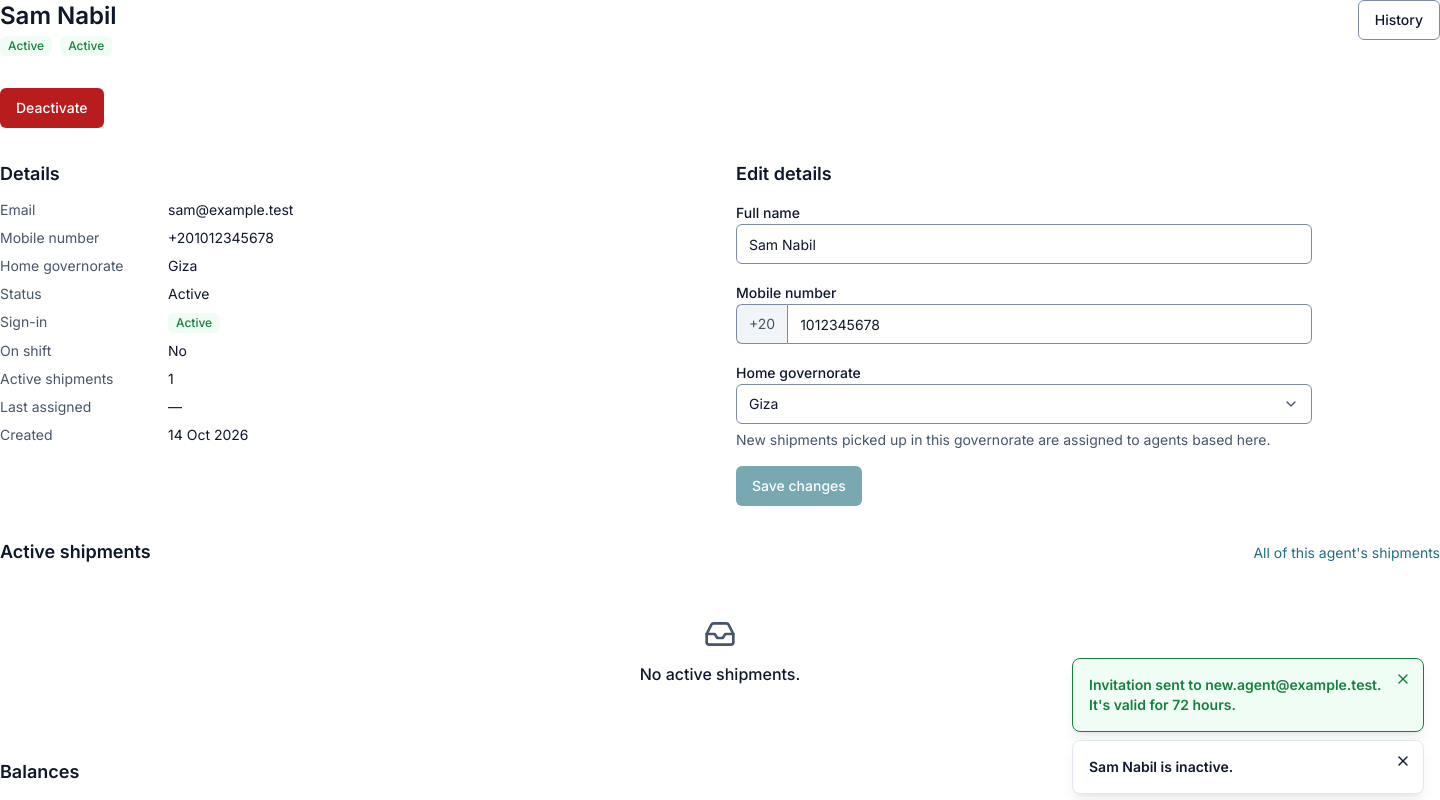
Test: agent (spec 03 AD-11) › AGENT_INVALID_STATUS_TRANSITION refetches and explains
Click the button "Deactivate". click: {"x": 52, "y": 108}
box: [0, 88, 104, 128]
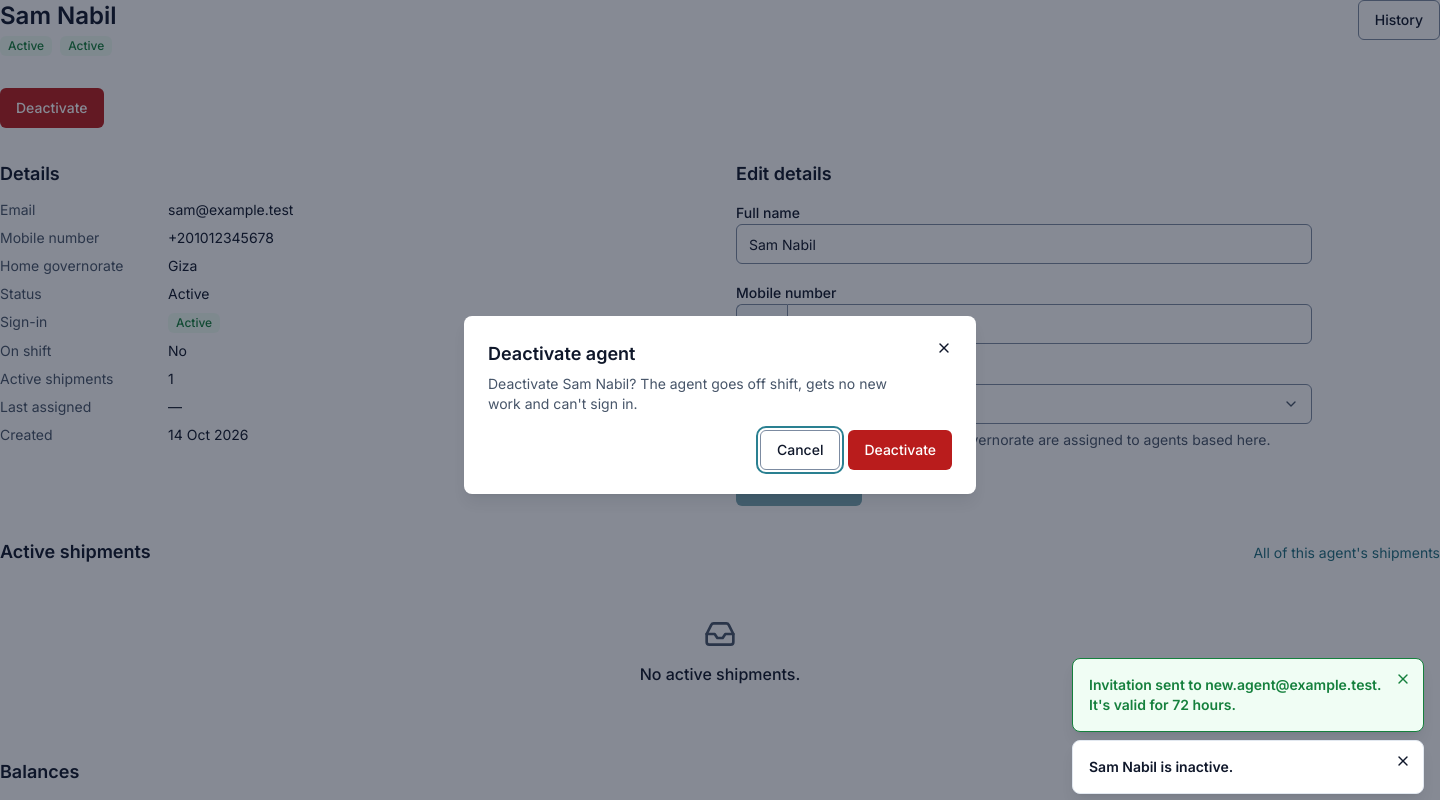
Click the button "Deactivate". click: {"x": 900, "y": 450}
box: [848, 430, 952, 470]
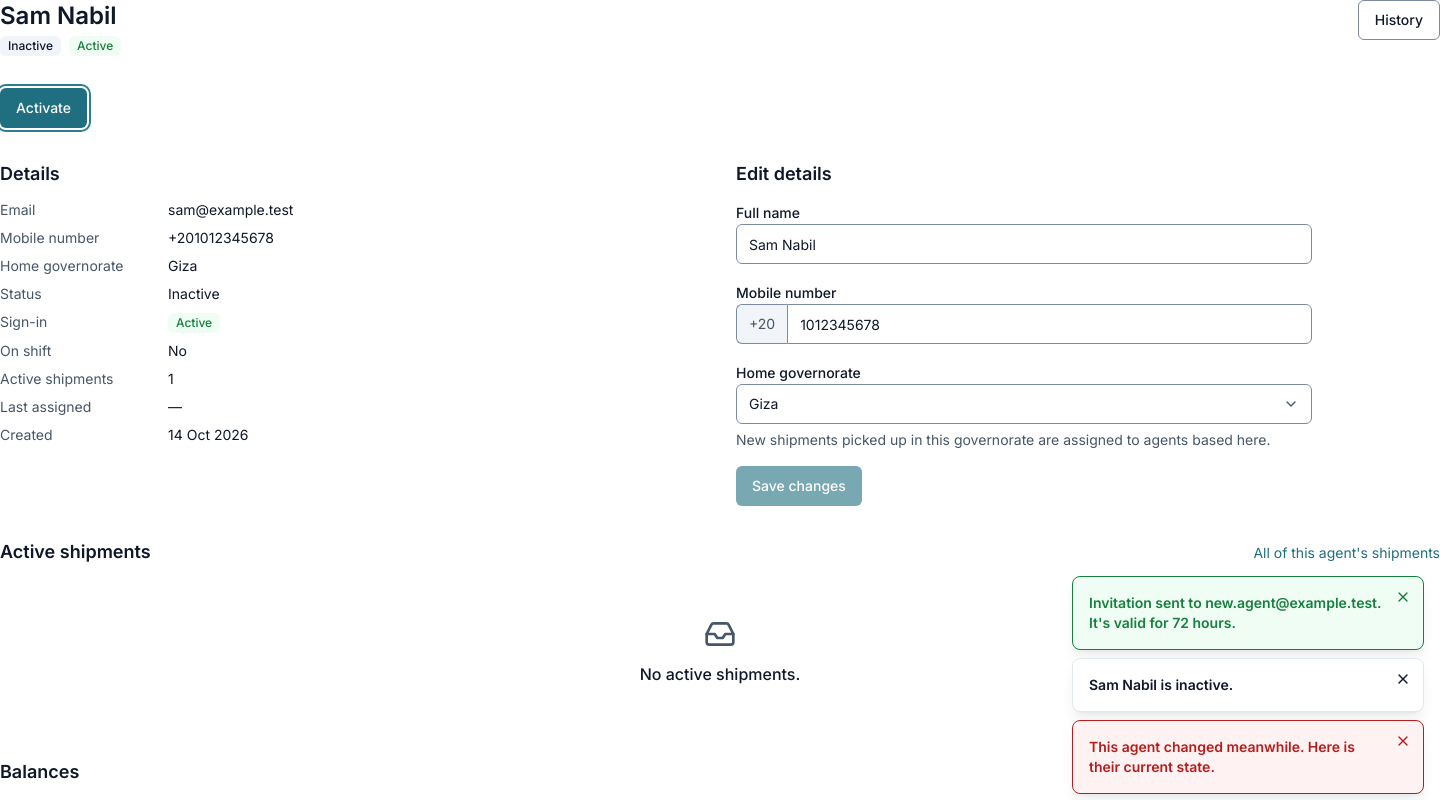
Expected: the button "Activate" is shown, [0, 88, 87, 128]
Expected: the text "This agent changed meanwhile. Here is their current state." is shown, [1089, 737, 1383, 777]
